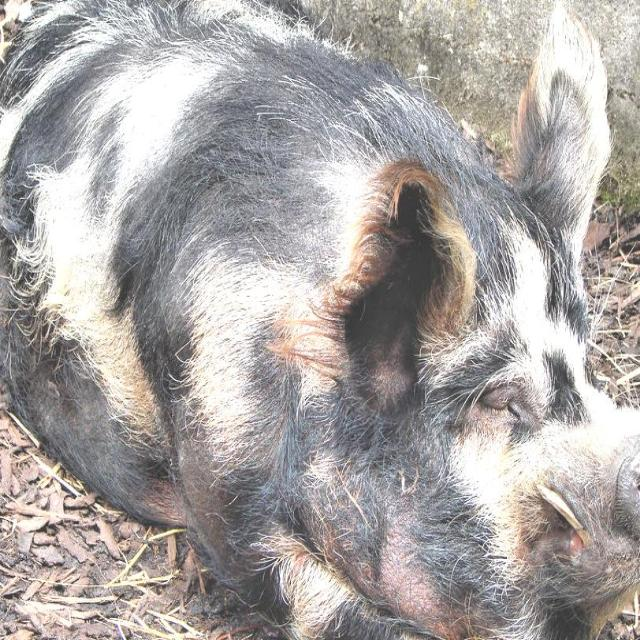pig: (0, 3, 640, 638)
